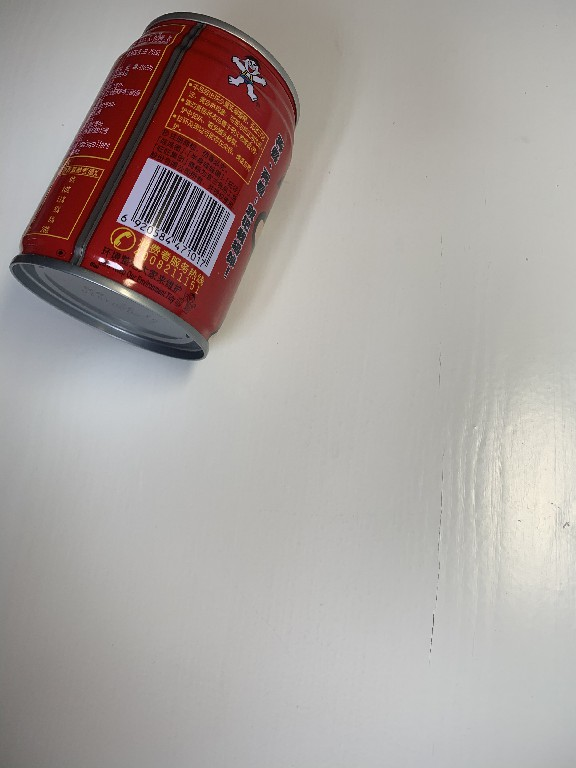can: (7, 9, 305, 365)
